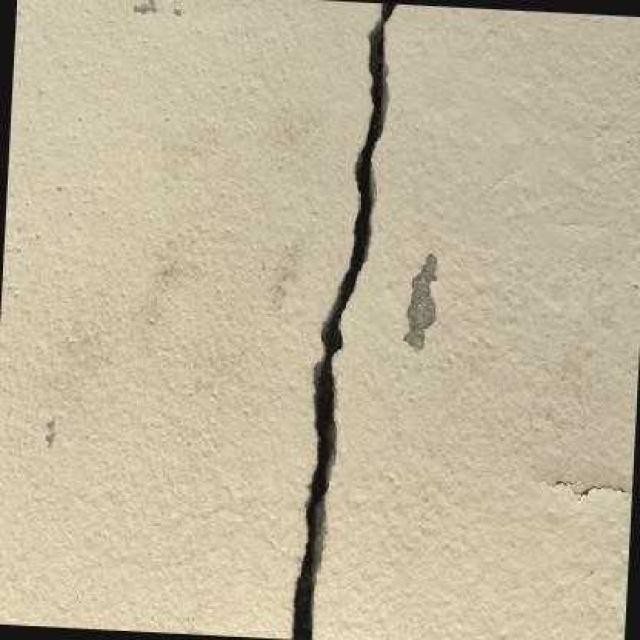D00: (291, 3, 396, 640)
